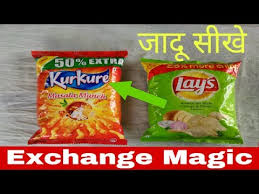kurkure: (43, 68, 110, 89)
plastic: (31, 51, 128, 145), (144, 60, 244, 142)
wrapper: (25, 43, 136, 147)
